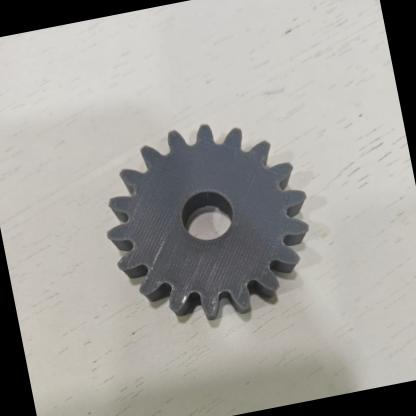gear: (69, 78, 340, 359)
